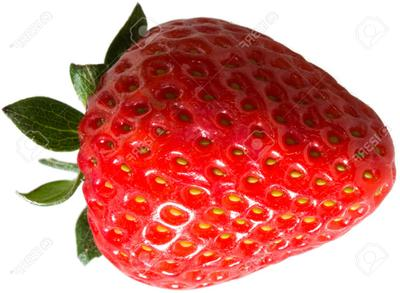strawberry: (0, 0, 400, 293)
